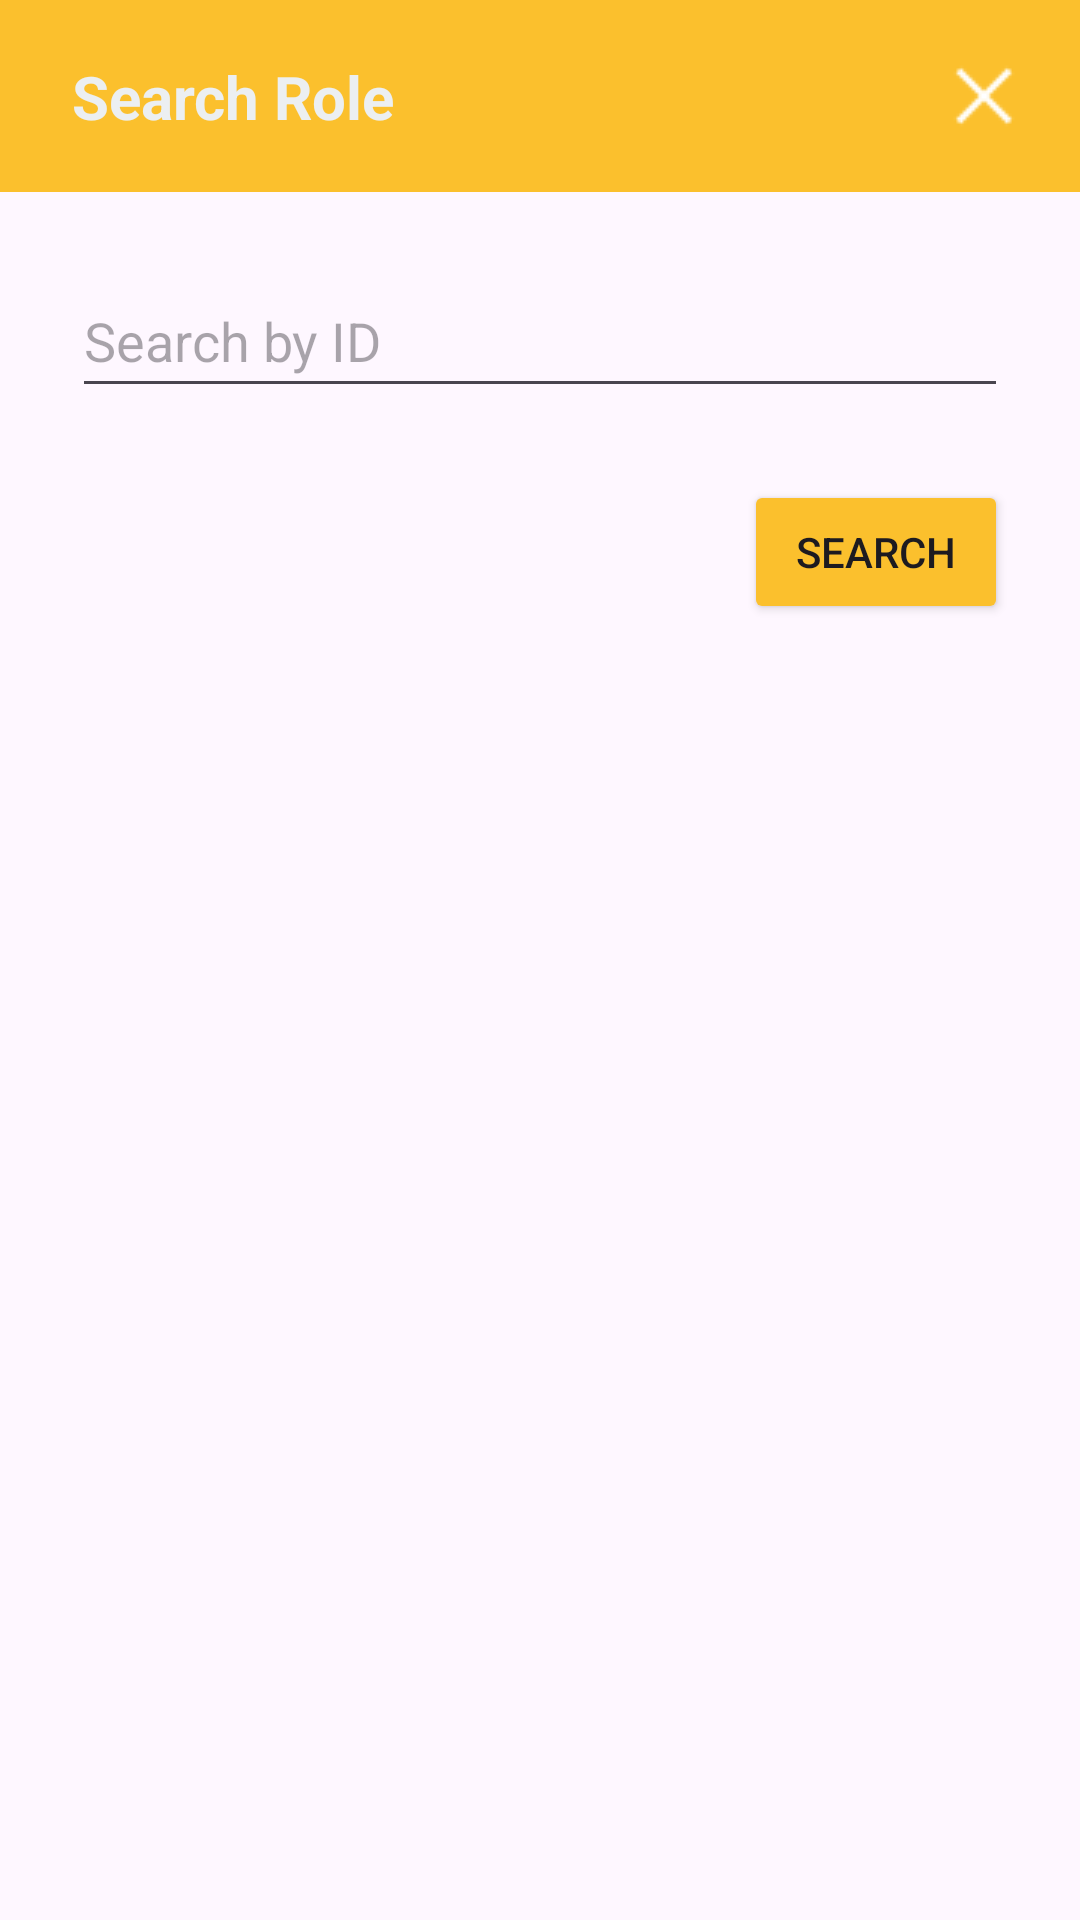

Where icons sit on this 1080*1920 app screen, as box(x1, y1, x2, y2):
Close: box(956, 68, 1012, 124)
